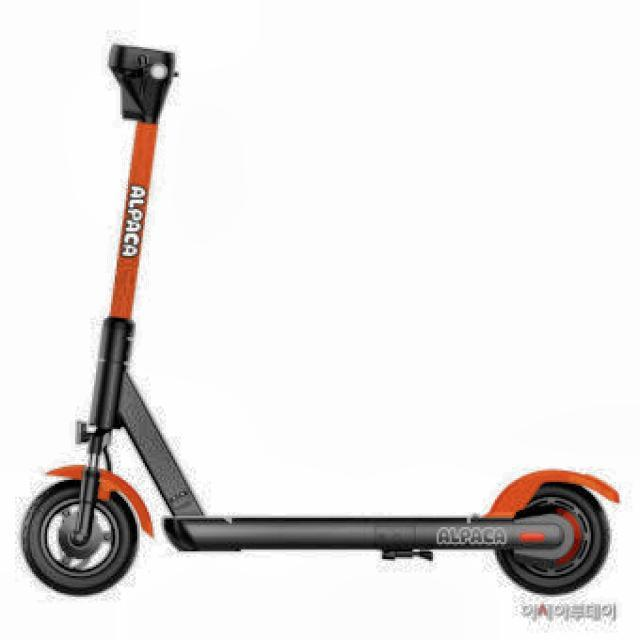bike: (20, 17, 639, 599)
